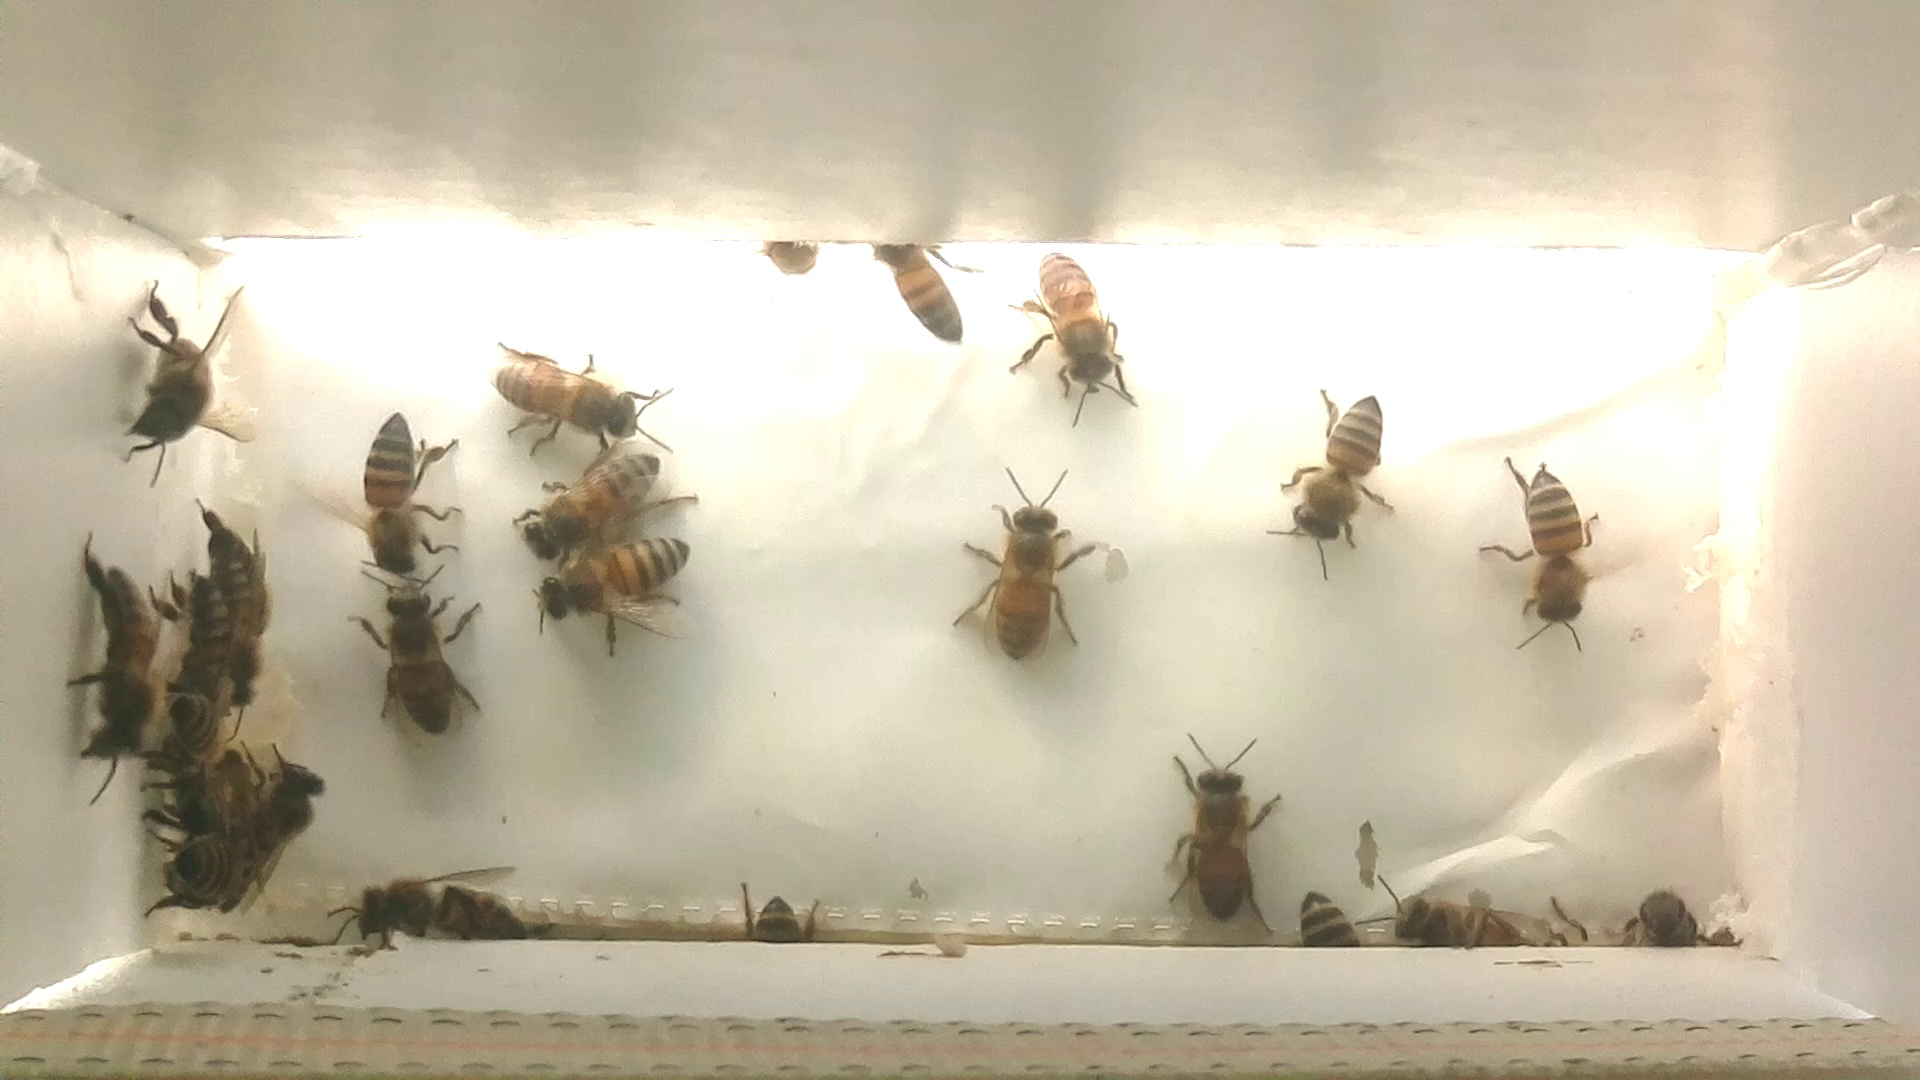bee: (939, 451, 1106, 673), (1472, 443, 1629, 675), (496, 526, 746, 665), (1250, 364, 1400, 589), (473, 323, 688, 480), (299, 396, 476, 583), (1145, 721, 1288, 949), (115, 278, 262, 496), (996, 237, 1155, 436), (491, 438, 731, 568), (61, 529, 165, 818), (343, 559, 498, 752), (193, 509, 295, 729), (309, 858, 529, 961), (198, 725, 320, 894), (1356, 866, 1543, 971), (164, 563, 251, 750), (870, 223, 988, 360), (127, 808, 247, 928), (715, 862, 840, 956), (1275, 874, 1370, 968), (1613, 876, 1716, 953), (756, 231, 831, 287)
